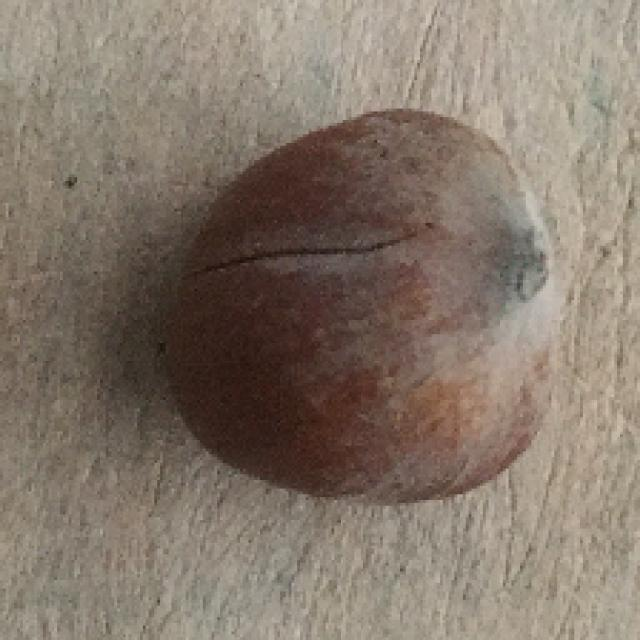qualityHazelnut: (181, 97, 568, 519)
